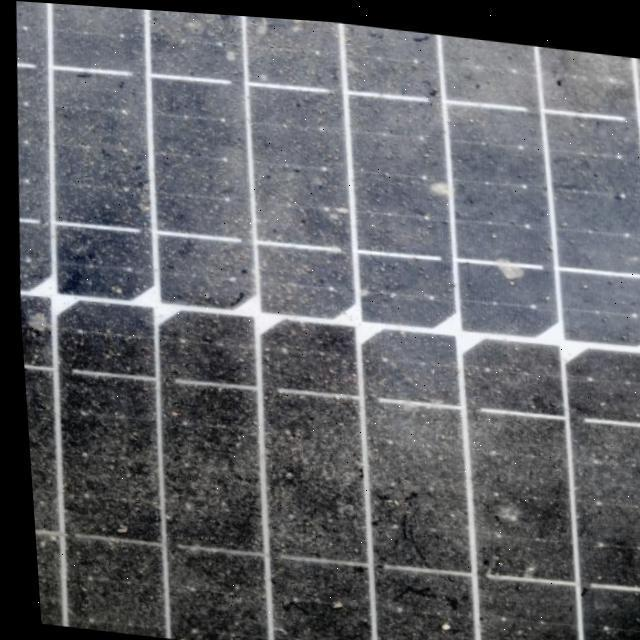Anomaly Solar Panel: (0, 0, 640, 640)
Surface Contaminant: (74, 29, 618, 640)
